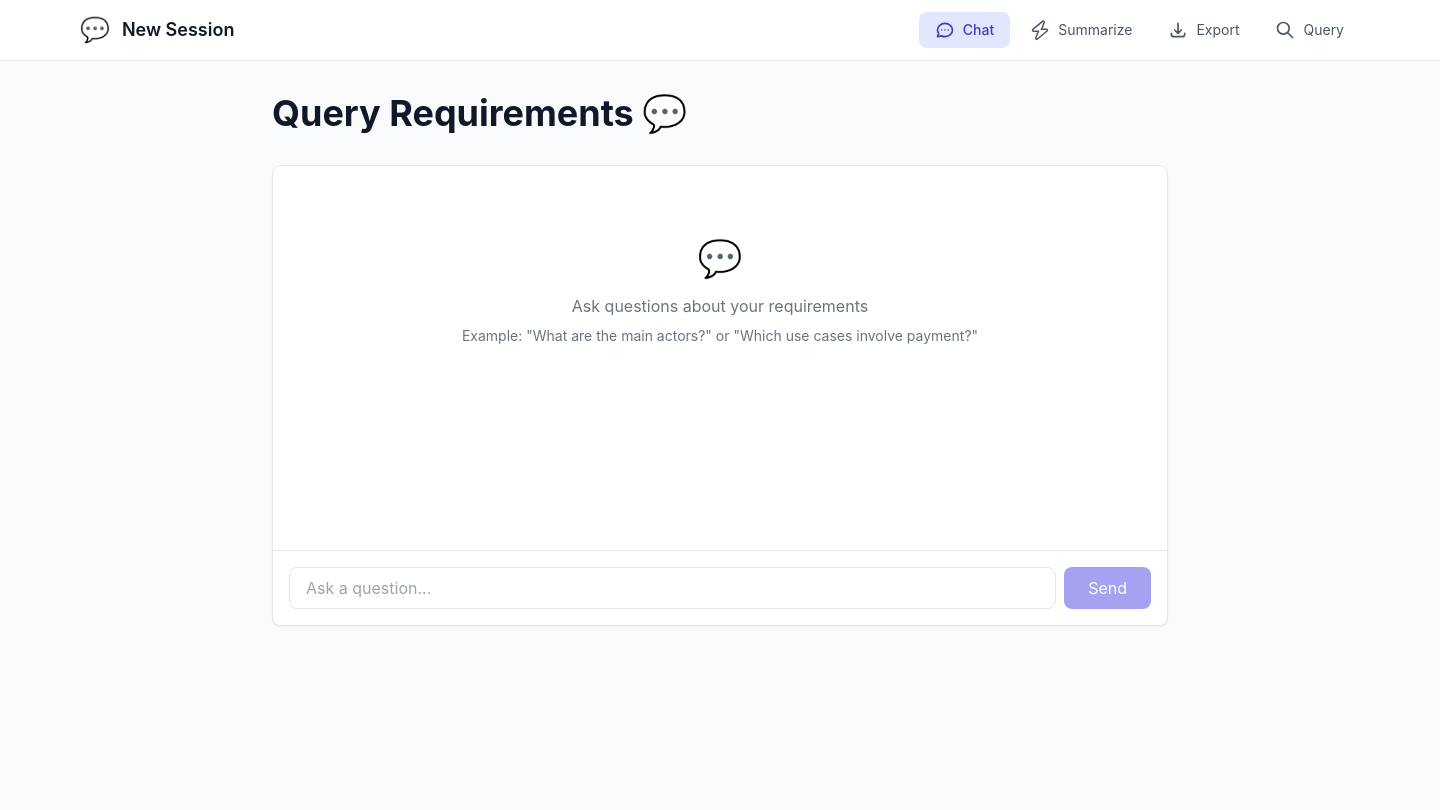
Test: Query Component › Loading and Error States › shows loading state while fetching answer
Step 1. Type "Test" into the field with placeholder "Ask a question..." → (673, 588), box [289,567,1056,609]
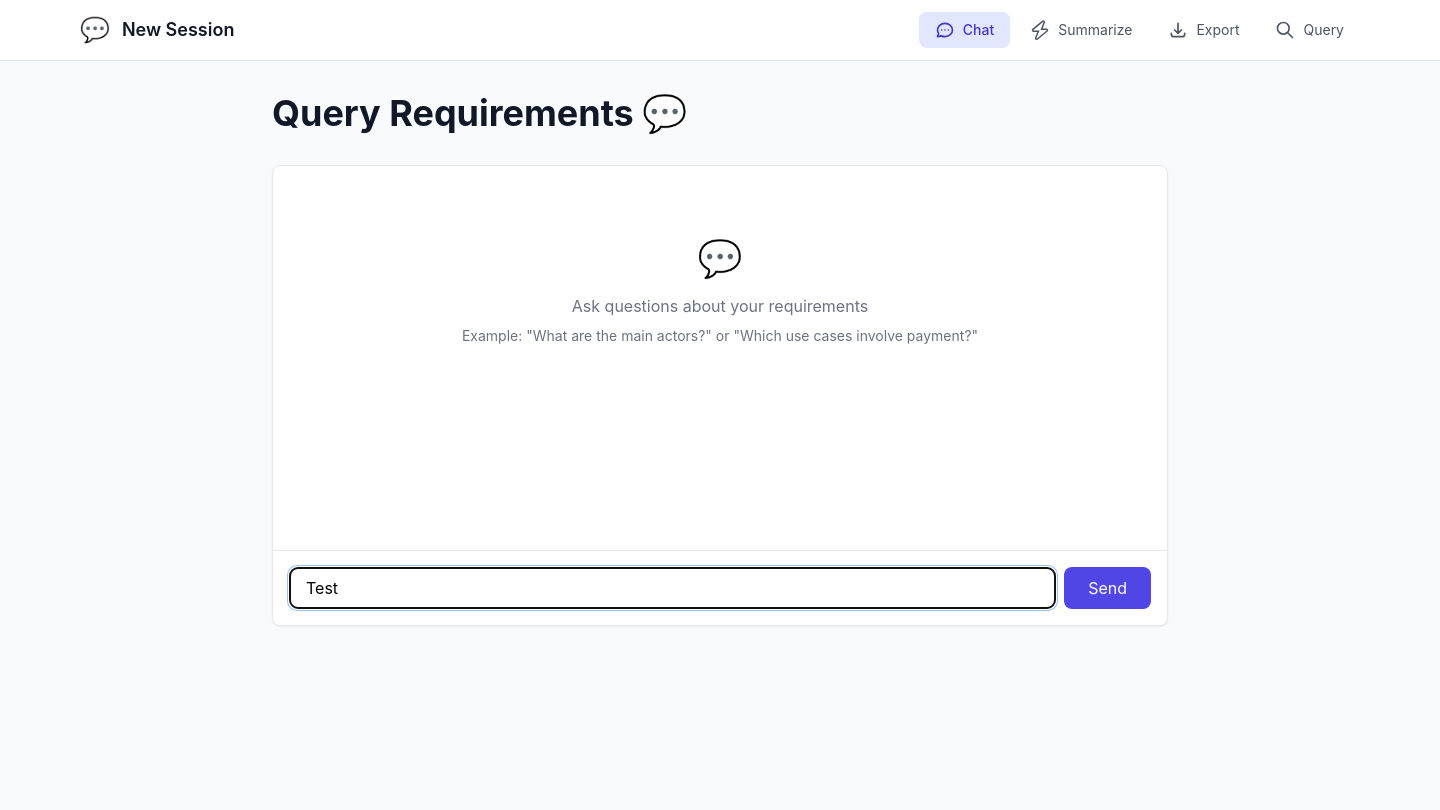
Step 2. Click the button "Send" → (1108, 588), box [1064,567,1151,609]
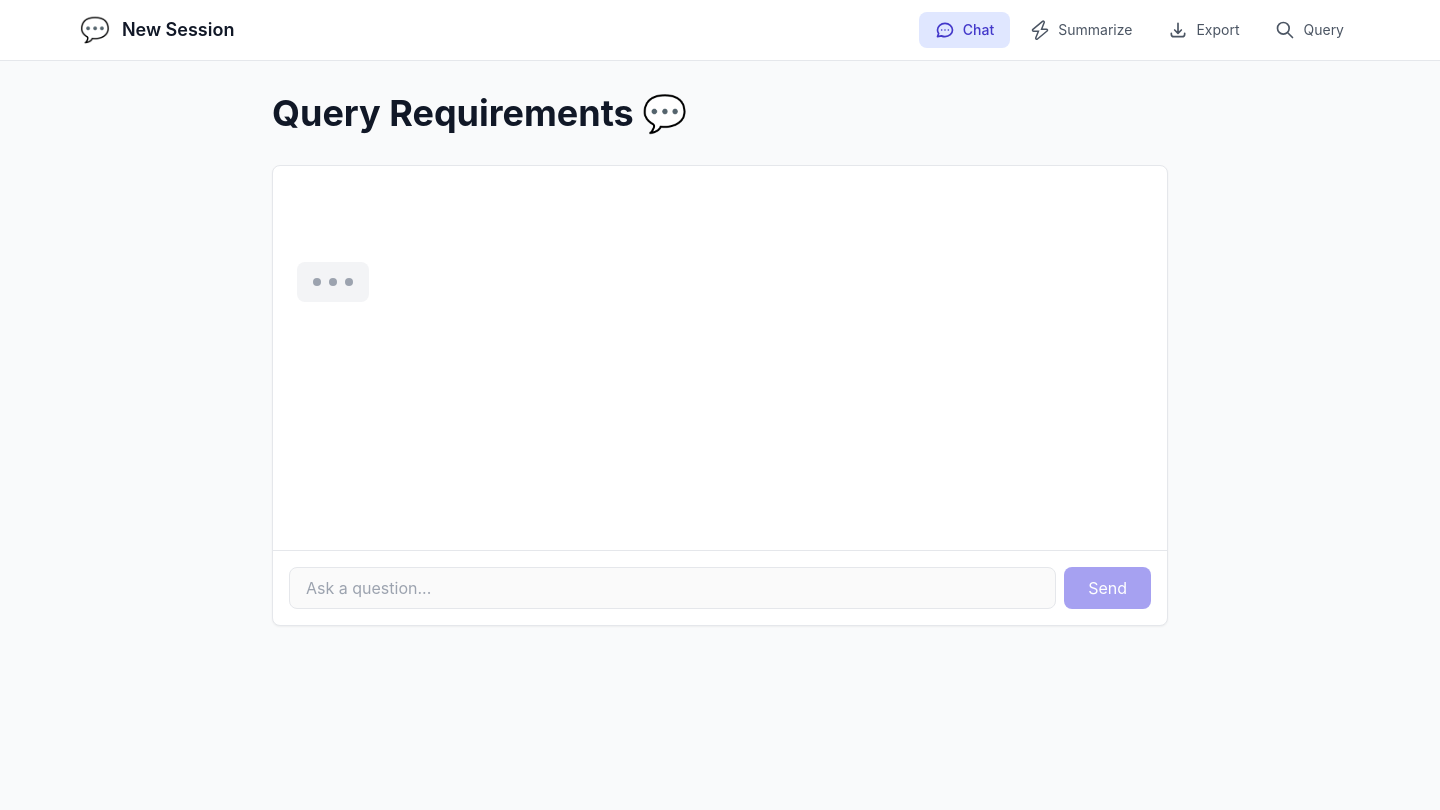
Expected: the button "Send" is disabled, [1064,567,1151,609]
Expected: the field with placeholder "Ask a question..." is disabled, [289,567,1056,609]
